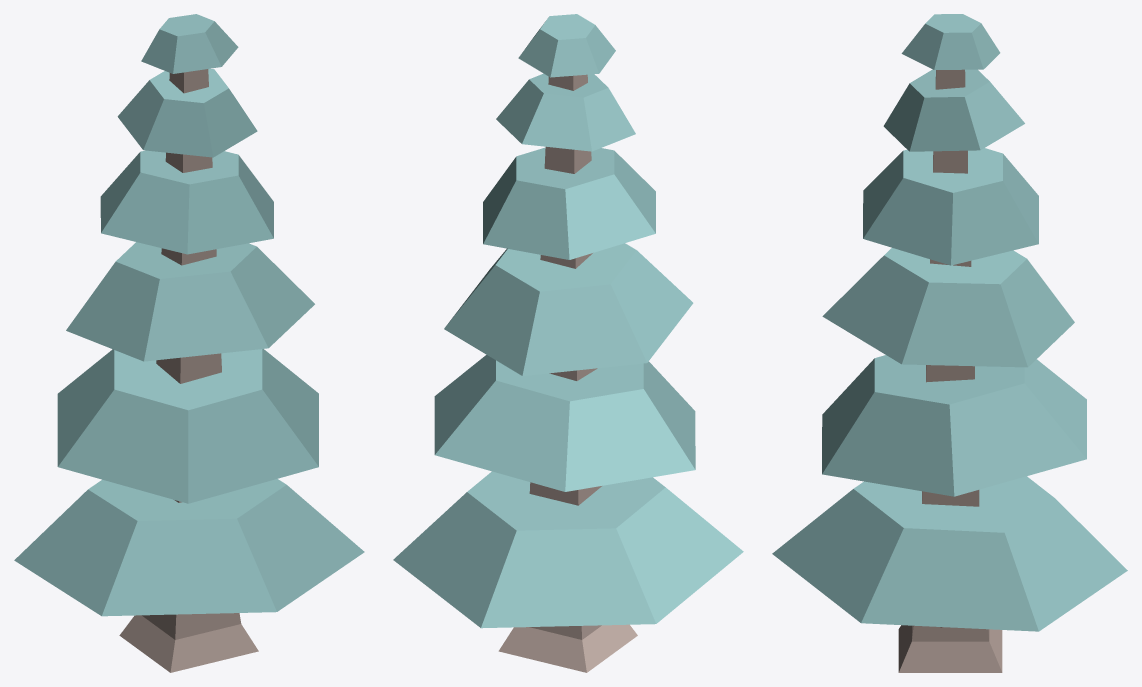
Rendered from nat_tree_pineRoundB.glb.
3 views of the same model, side by side, from view 1: azimuth 30°, elevation 25°; view 2: azimuth 150°, elevation 25°; view 3: azimuth 270°, elevation 25° (orthographic).
Parts seen in each view (by area): view 1: geometry_0; view 2: geometry_0; view 3: geometry_0.
Boxes of the visible parts, x1,y1,x2,y2 form: geometry_0: (14,14,364,672); geometry_0: (393,14,743,672); geometry_0: (772,14,1127,672).
Size of the model in its own units: 0.445 by 1 by 0.5127.
